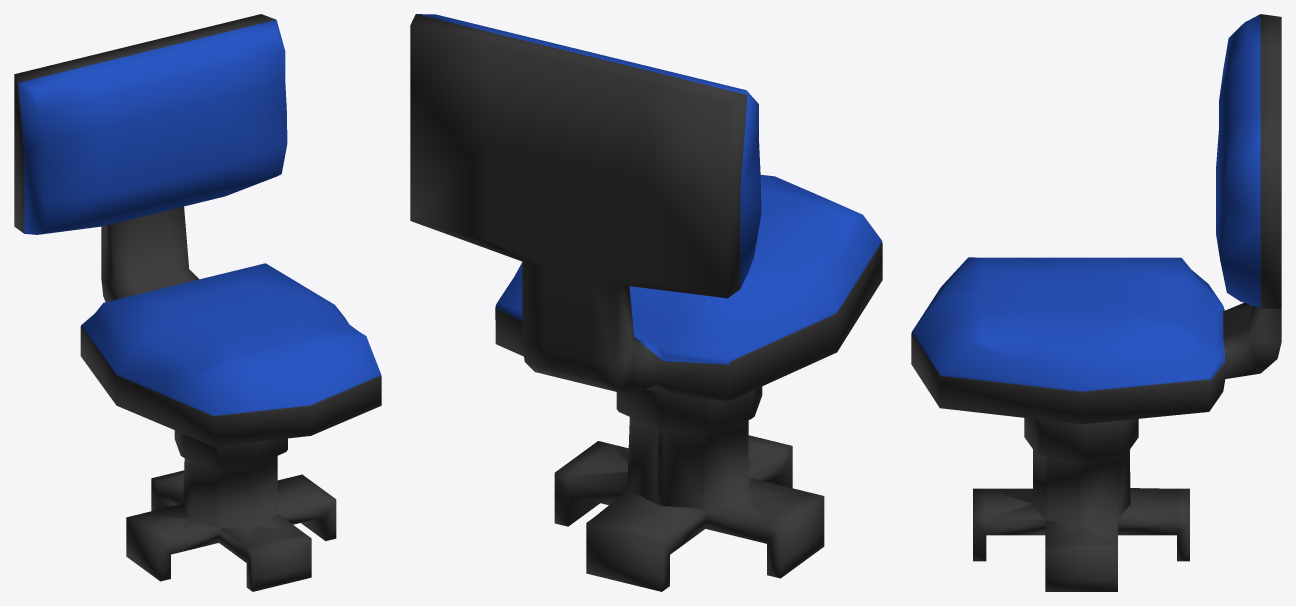
The model's file is Chair 1.fbx.
3 views of the same model, side by side, from view 1: azimuth 30°, elevation 25°; view 2: azimuth 150°, elevation 25°; view 3: azimuth 270°, elevation 25° (orthographic). The views are drawn at different scales.
Visible parts, largest first — view 1: Cube.072; view 2: Cube.072; view 3: Cube.072.
Boxes of the visible parts, x1=… form: Cube.072: x1=14, y1=14, x2=381, y2=591; Cube.072: x1=410, y1=14, x2=882, y2=591; Cube.072: x1=911, y1=14, x2=1281, y2=591.
Bounding box in the file's own units: 79.75 × 128 × 92.7.
